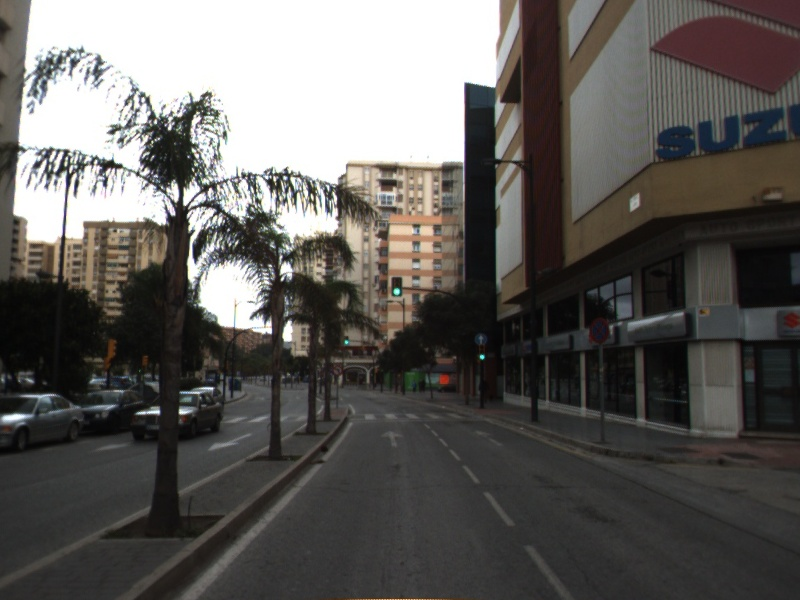STRAIGHT: (472, 428, 506, 448), (378, 428, 407, 449)
